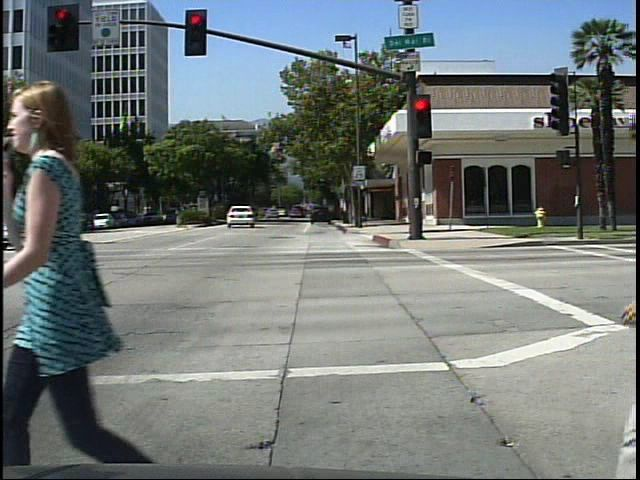person: (0, 64, 185, 467)
